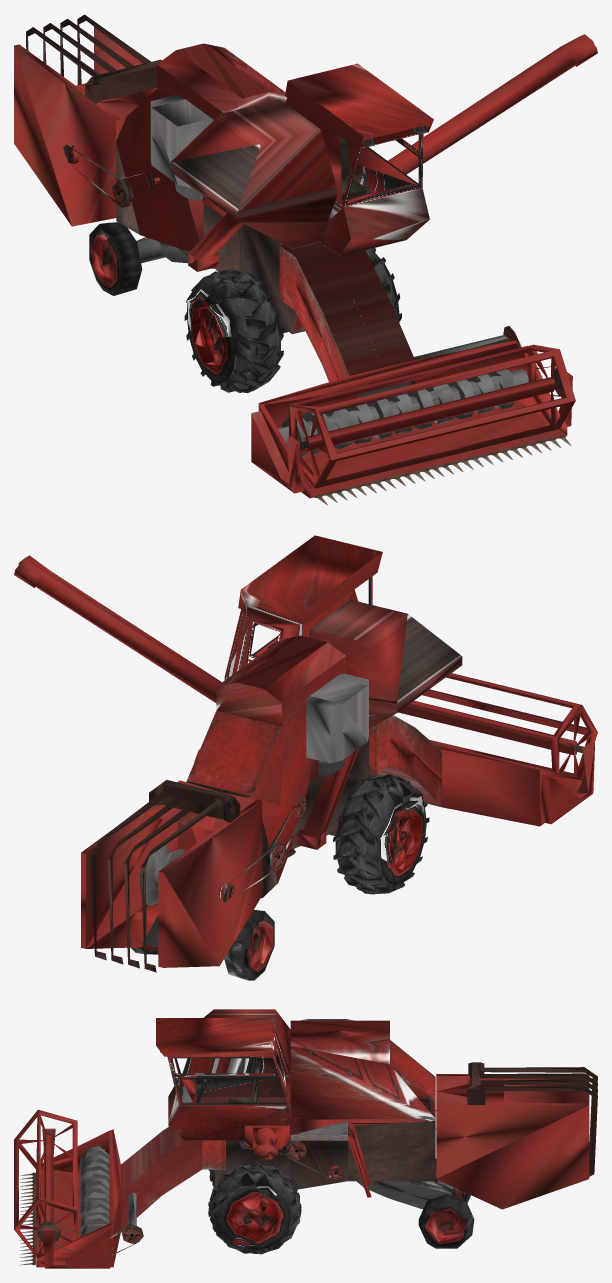
The model's file is v_combine.glb.
3 renders of one model, top to bottom at view 1: azimuth 30°, elevation 25°; view 2: azimuth 150°, elevation 25°; view 3: azimuth 270°, elevation 25°, orthographic. The views are drawn at different scales.
Visible parts, largest first — view 1: body|SK-5_NIVA, body|TRTF; view 2: body|SK-5_NIVA; view 3: body|SK-5_NIVA, body|TRTF.
Part boxes in pixels (bbox=[...]): body|SK-5_NIVA: bbox=[14, 14, 597, 498]; body|TRTF: bbox=[313, 434, 571, 505]; body|SK-5_NIVA: bbox=[14, 535, 597, 980]; body|SK-5_NIVA: bbox=[14, 1009, 597, 1268]; body|TRTF: bbox=[20, 1172, 35, 1265].
Size of the model in its own units: 5.8 by 3.53 by 8.75.
Materials: 2 (2 with a texture image).
